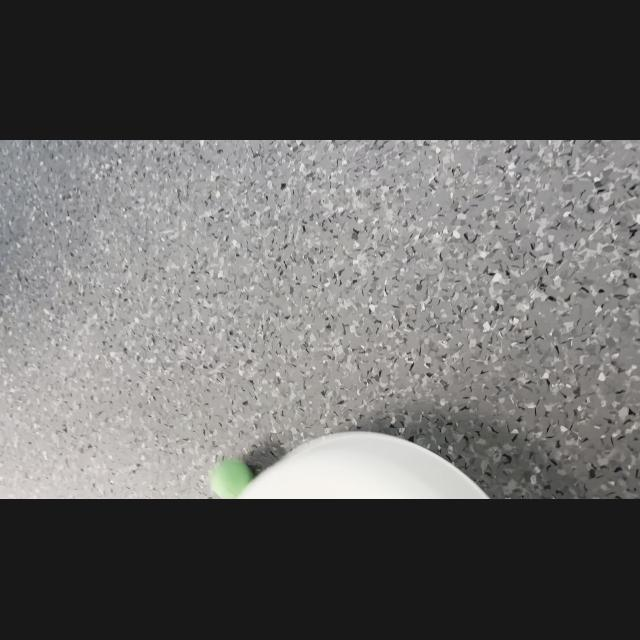objects: (202, 447, 254, 499)
